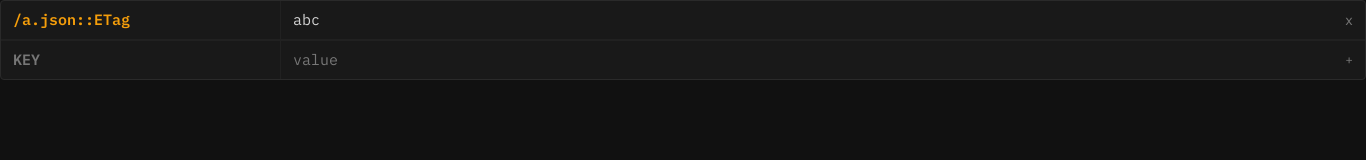
it: KeyValueField › editable keys (full per-path authoring — Bill ruling) › retargeting an existing key preserves the value at its position
Type "s" into the field named "Key for /a.json::ETag" at (140, 20), box [13, 8, 268, 32]
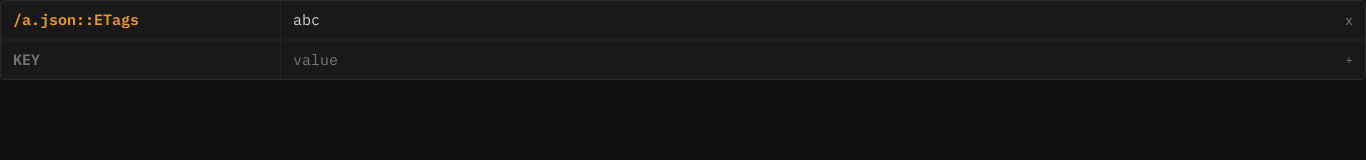
Expected: the field named "Value for /a.json::ETags" holds "abc", [293, 8, 1321, 32]
Now the field named "Key for /a.json::ETags" holds "/a.json::ETags", box [13, 8, 268, 32]
